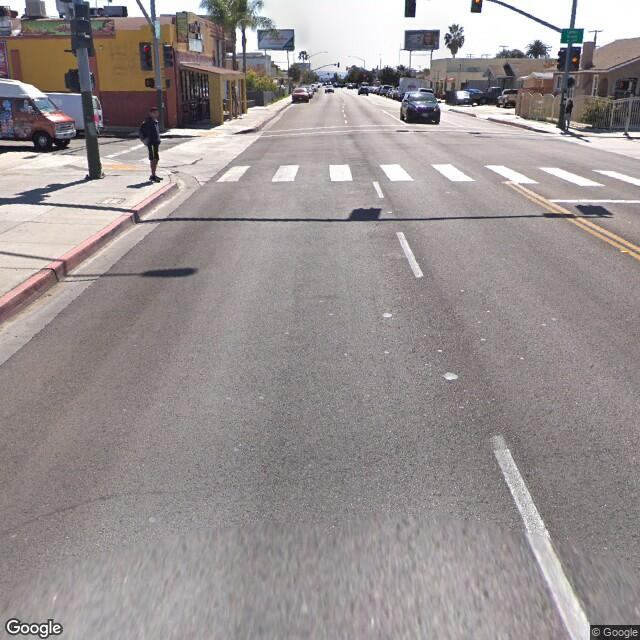road line: (466, 409, 626, 640), (365, 168, 445, 286), (511, 174, 586, 241)
